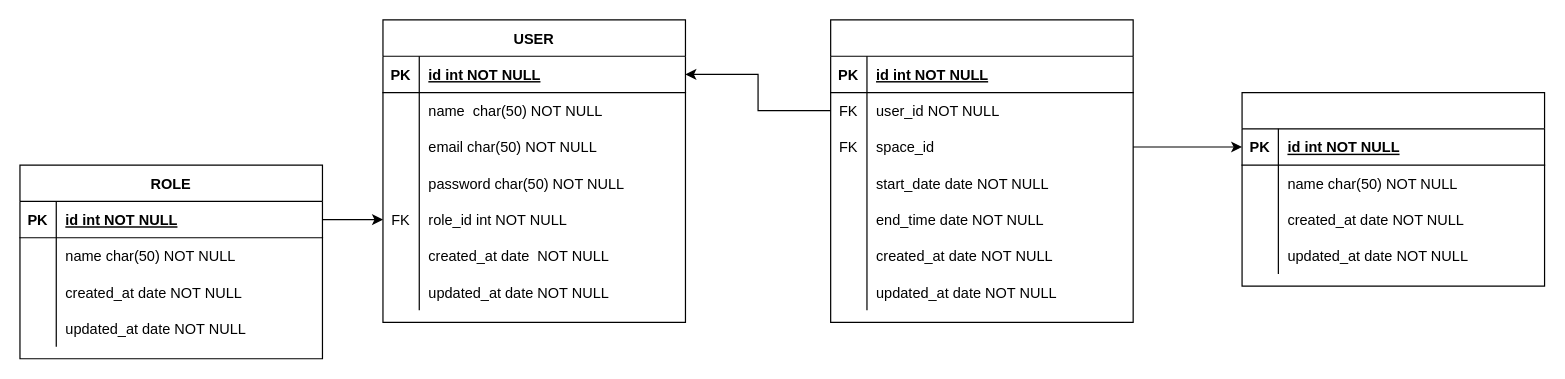
Some shapes in this 1565 by 379 pixel diagram are drawn without their labels. The box of each missing label's shape, as (x1, y1, x2, y2) in pixels:
RESERVATION: (829, 19, 1133, 322)
SPACE: (1241, 91, 1545, 286)
